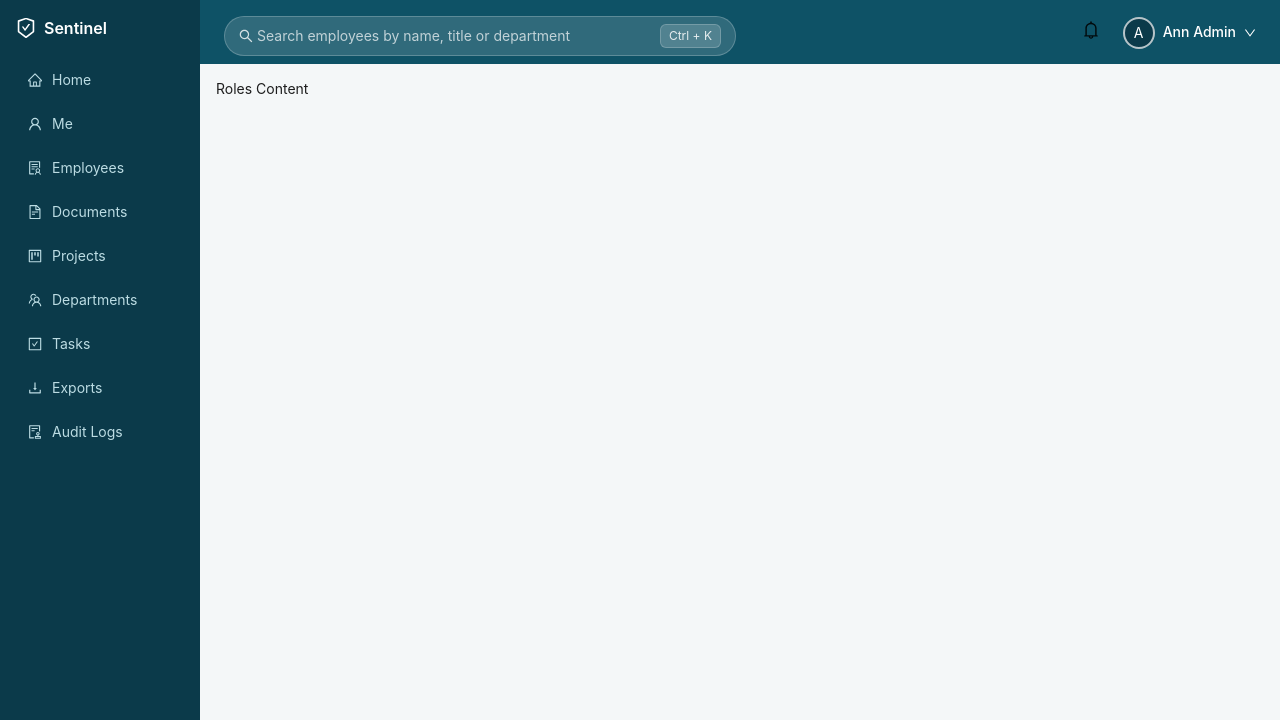
Test case: AppLayout › does not offer Billing & plan to an Org User
This screenshot has width=1280, height=720.
Click the text "Ann Admin".
click(1199, 32)  # box [1163,23,1236,40]
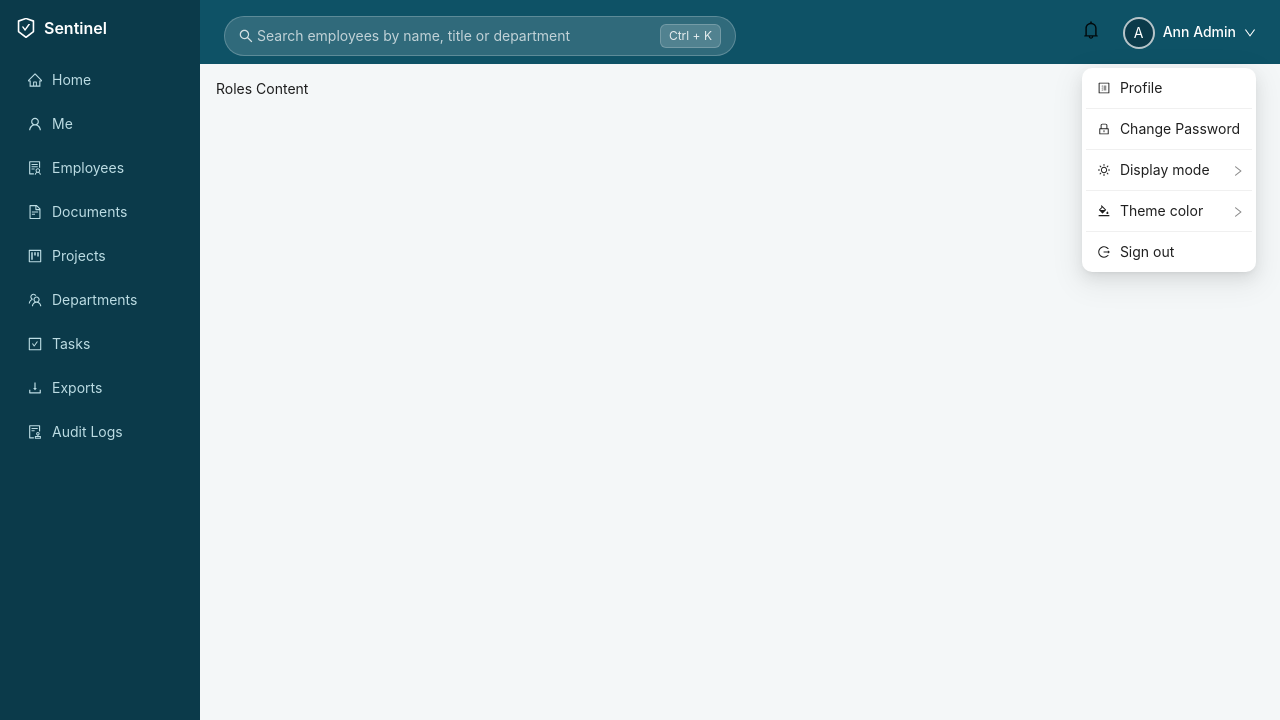
Check: the text "Profile" is shown, box [1120,79,1162,96]
